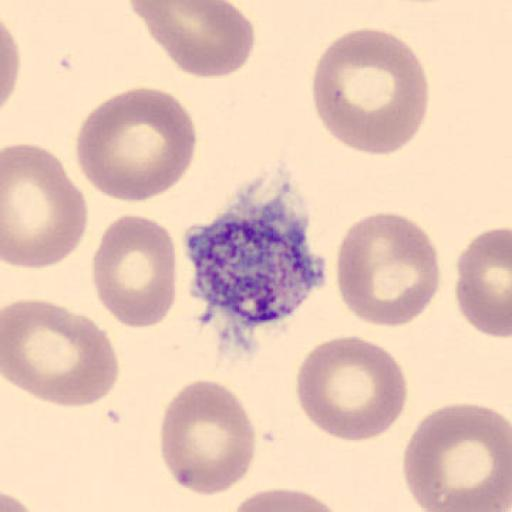Platelet: (182, 183, 327, 329)
RBC: (310, 26, 430, 156), (74, 86, 198, 205), (1, 298, 121, 408), (293, 334, 410, 444), (334, 210, 441, 329), (401, 400, 512, 512), (157, 378, 257, 498), (2, 142, 90, 270), (91, 212, 178, 331), (128, 0, 256, 80), (453, 225, 512, 340), (436, 469, 512, 512), (229, 486, 349, 512), (0, 16, 21, 114), (434, 484, 506, 512), (0, 488, 46, 512), (0, 486, 32, 512)
